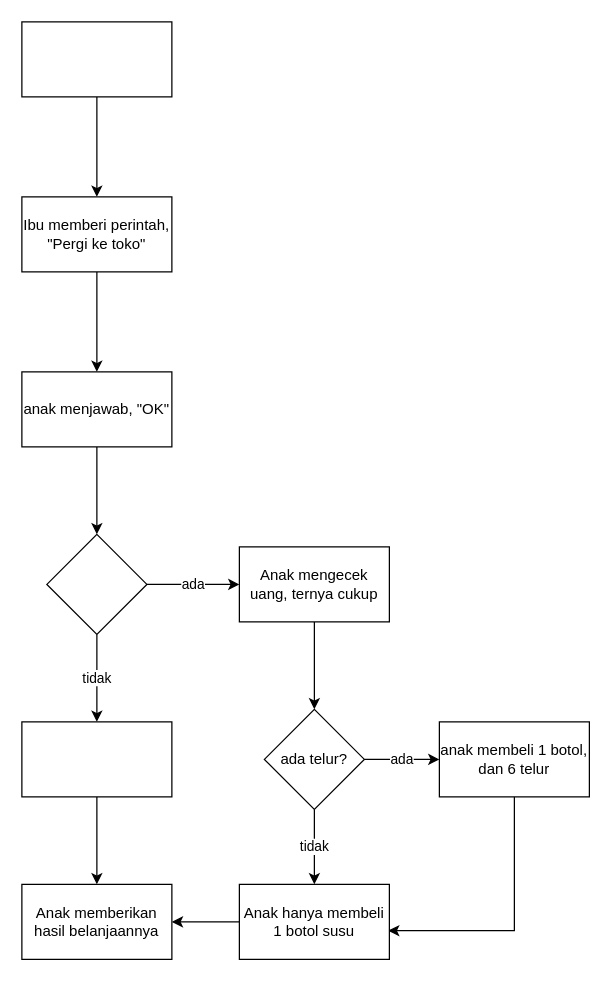
Some shapes in this 611 by 981 pixel diagram are drawn without their labels. Each missing label, with the centre of its shape:
"Anak tidak jadi membeli susu" goes at pixel 96 759.
"Apkah susu ada?" goes at pixel 96 583.
"Mulai" goes at pixel 96 59.
